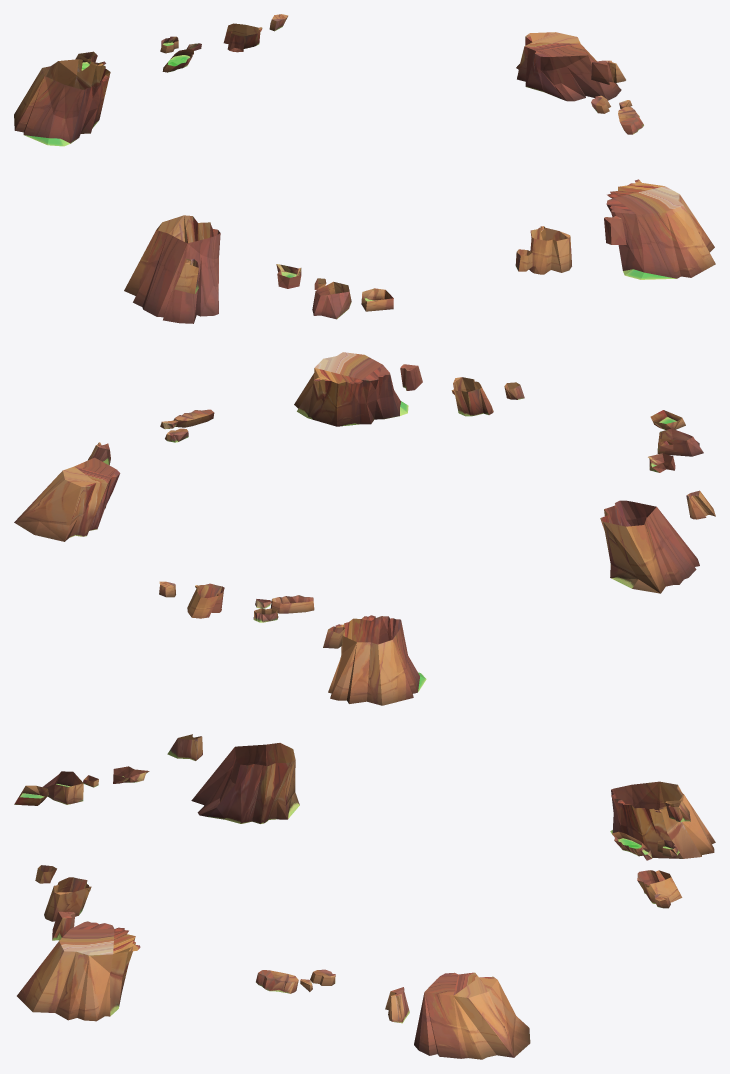
The model's file is isole.obj.
3 views of the same model, one above another, from view 1: azimuth 30°, elevation 25°; view 2: azimuth 150°, elevation 25°; view 3: azimuth 270°, elevation 25° (orthographic). The views are drawn at different scales.
Visible parts, largest first — view 1: Islands_0; view 2: Islands_0; view 3: Islands_0.
Boxes of the visible parts, bbox=[...] form: Islands_0: bbox=[14, 14, 715, 323]; Islands_0: bbox=[14, 352, 715, 705]; Islands_0: bbox=[14, 734, 715, 1059].
Size of the model in its own units: 31.98 by 3.36 by 33.21.
Materials: 1 (1 with a texture image).
